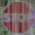Stop: (2, 3, 34, 28)
